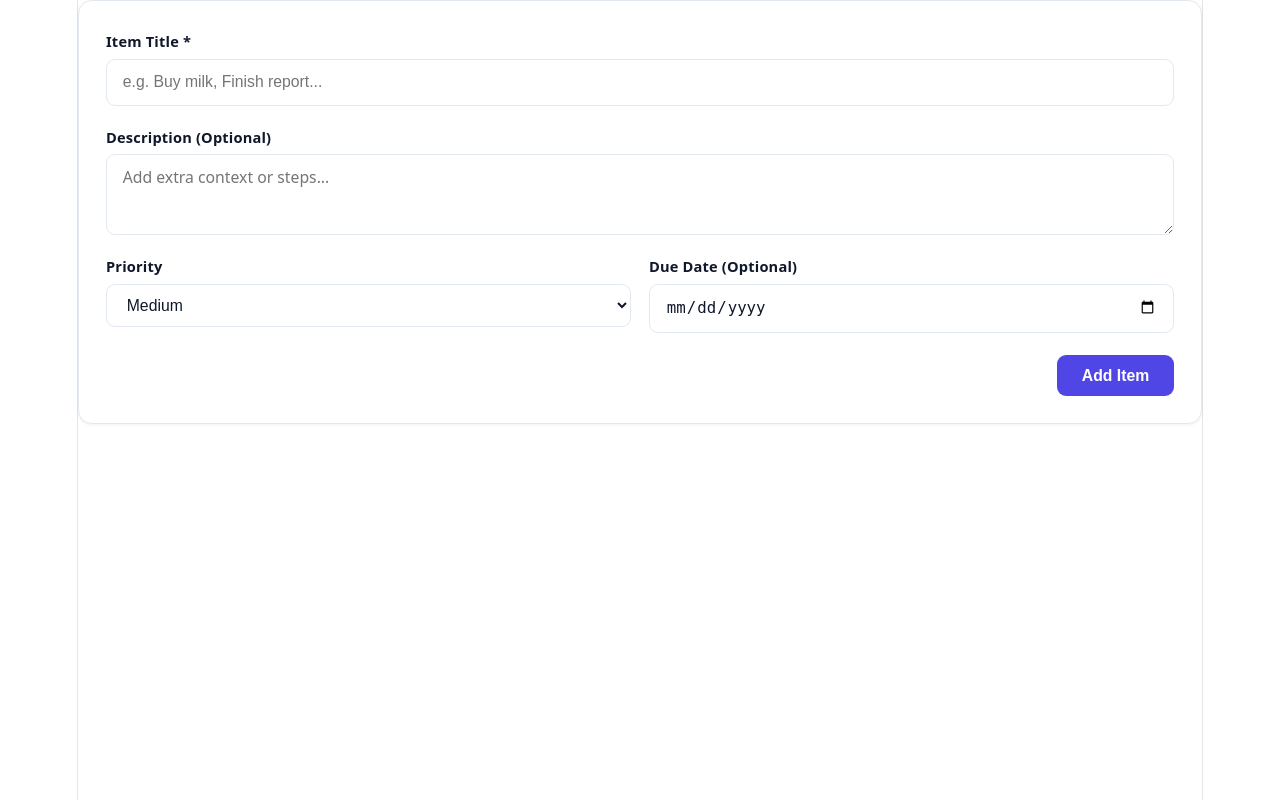
Scenario: AddTodoItemForm Component › shows inline validation error when title is empty
Click the button "Add Item" at (1116, 376), box [1057,355,1174,396]
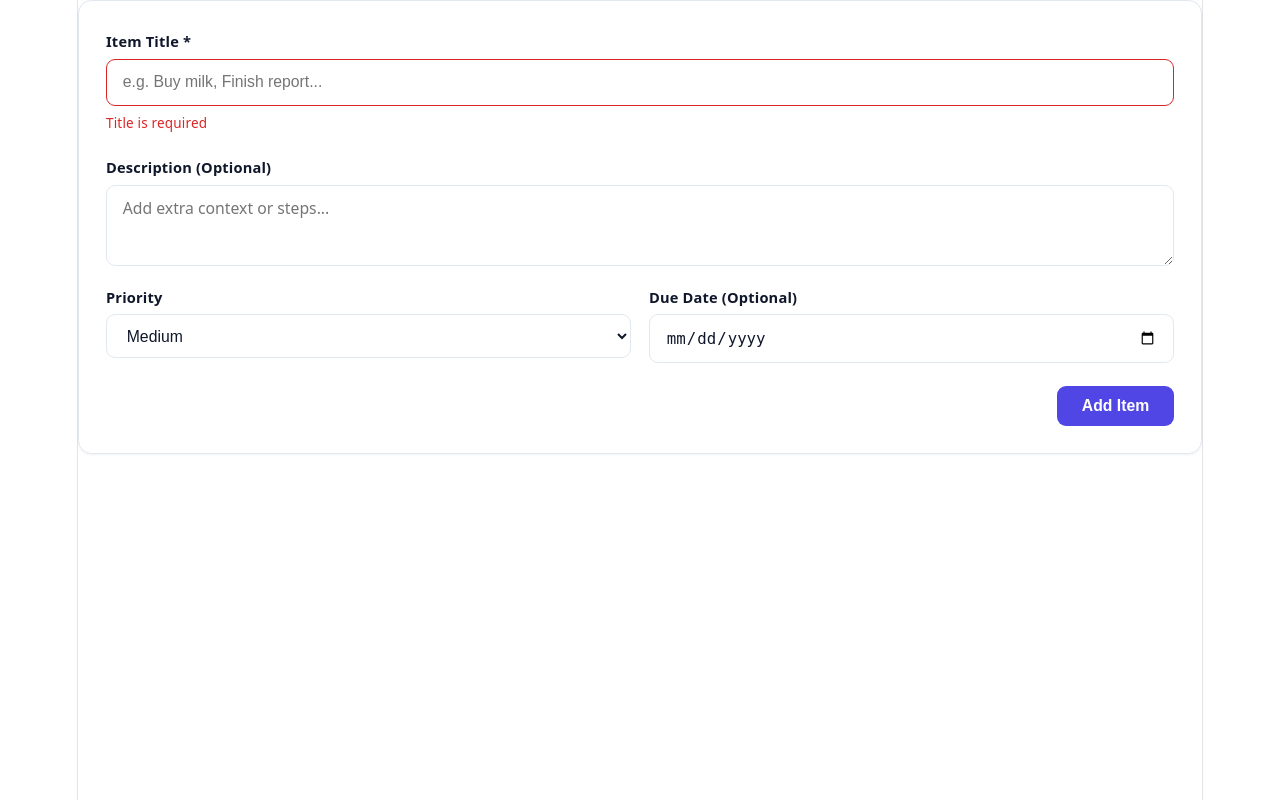
Now the text "Title is required" is shown, box [106,114,207,132]
